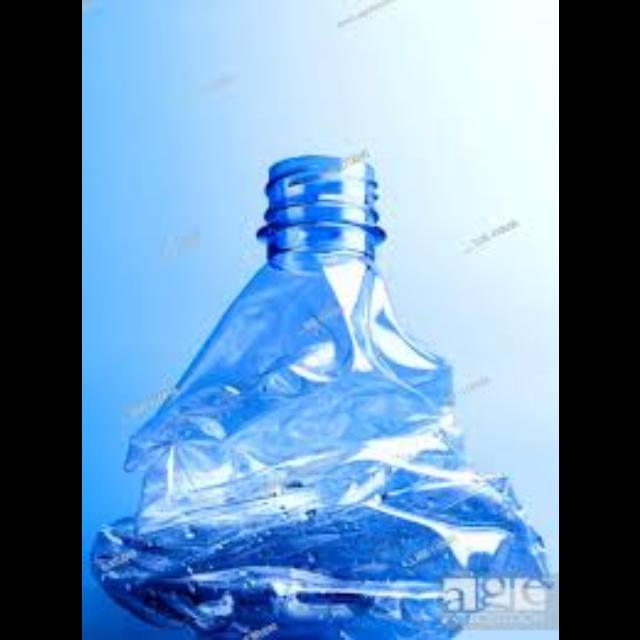trash: (91, 123, 559, 640)
